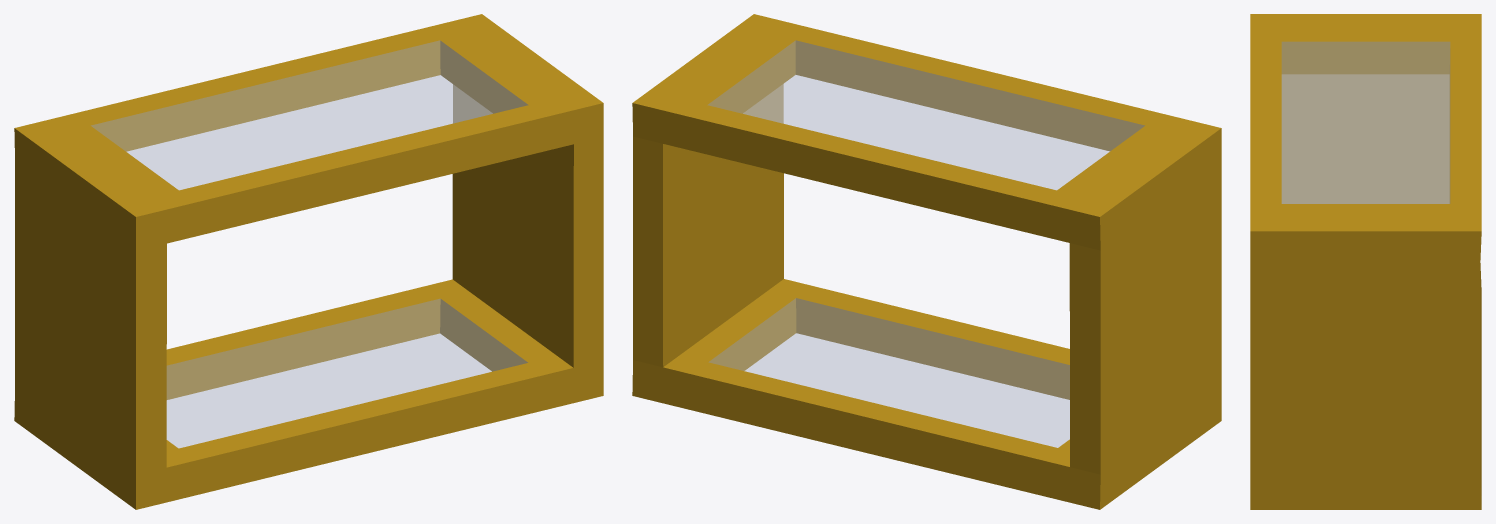
File: rectangle table with glass gold.glb
3 renders of one model, left to right at view 1: azimuth 30°, elevation 25°; view 2: azimuth 150°, elevation 25°; view 3: azimuth 270°, elevation 25°, orthographic. The views are drawn at different scales.
Visible parts, largest first — view 1: rectangle table glass gold; view 2: rectangle table glass gold; view 3: rectangle table glass gold.
Boxes of the visible parts, x1=… form: rectangle table glass gold: x1=14, y1=14, x2=603, y2=509; rectangle table glass gold: x1=632, y1=14, x2=1221, y2=509; rectangle table glass gold: x1=1250, y1=14, x2=1481, y2=509.
Size of the model in its own units: 1.55 by 0.9305 by 0.7.
